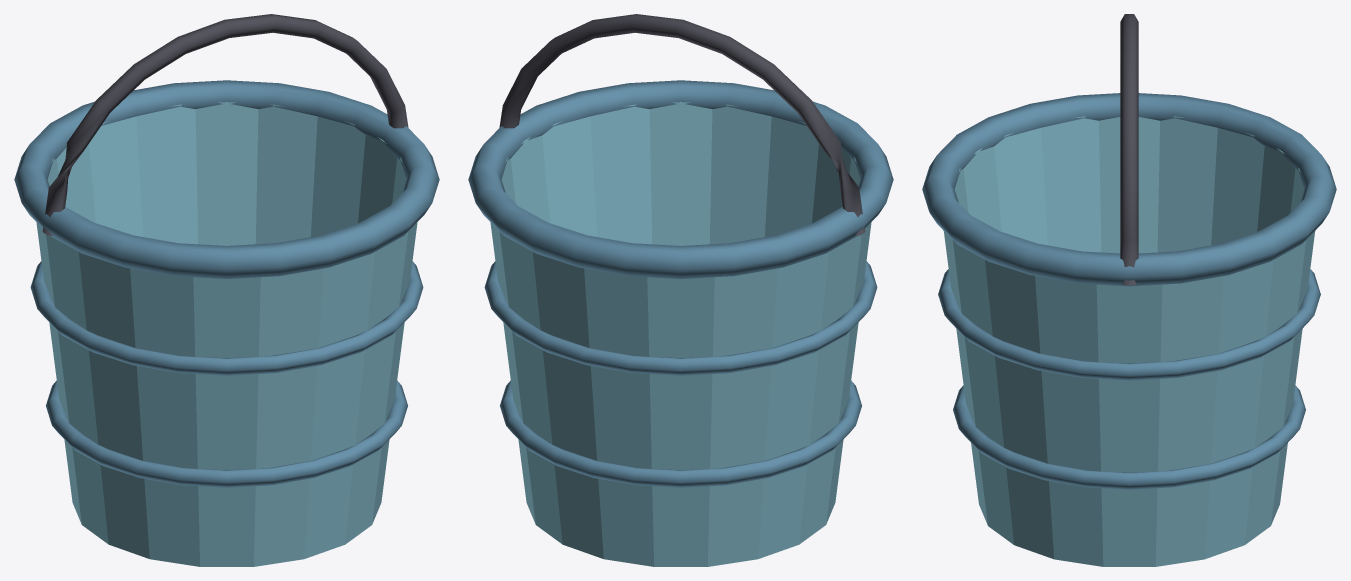
File: Bucket.glb
3 views of the same model, side by side, from view 1: azimuth 30°, elevation 25°; view 2: azimuth 150°, elevation 25°; view 3: azimuth 270°, elevation 25° (orthographic). The views are drawn at different scales.
Parts seen in each view (by area): view 1: Bucket_Body, Bucket_Rim, Bucket_Handle, Bucket_Band20, Bucket_Band9; view 2: Bucket_Body, Bucket_Rim, Bucket_Handle, Bucket_Band20, Bucket_Band9; view 3: Bucket_Body, Bucket_Rim, Bucket_Band20, Bucket_Band9, Bucket_Handle.
Boxes of the visible parts, <box> form: Bucket_Body: <box>36,102,417,566</box>; Bucket_Rim: <box>14,80,439,278</box>; Bucket_Handle: <box>42,14,408,235</box>; Bucket_Band20: <box>30,261,423,375</box>; Bucket_Band9: <box>46,380,407,487</box>; Bucket_Body: <box>490,102,871,566</box>; Bucket_Rim: <box>468,80,893,278</box>; Bucket_Handle: <box>499,14,865,235</box>; Bucket_Band20: <box>484,261,877,375</box>; Bucket_Band9: <box>500,380,861,487</box>; Bucket_Body: <box>943,116,1315,566</box>; Bucket_Rim: <box>922,93,1336,286</box>; Bucket_Band20: <box>938,269,1320,380</box>; Bucket_Band9: <box>953,385,1305,489</box>; Bucket_Handle: <box>1120,14,1138,285</box>.
Size of the model in its own units: 0.358 by 0.4469 by 0.358.
